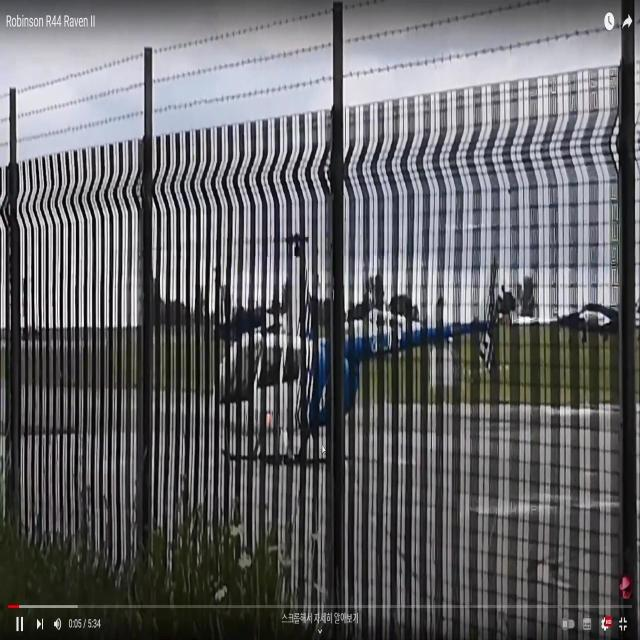CIV_HELO: (209, 233, 507, 467)
